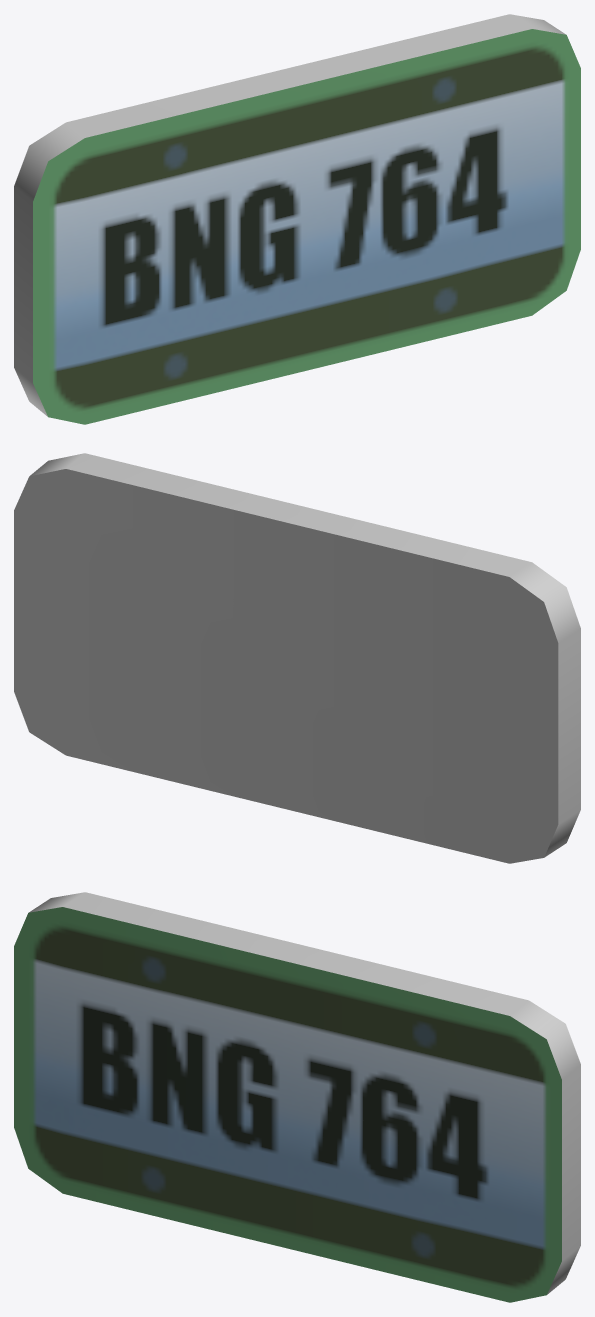
Rendered from Car_Number_24.fbx.
The picture shows the model from 3 angles, top to bottom: view 1: azimuth 30°, elevation 25°; view 2: azimuth 150°, elevation 25°; view 3: azimuth 330°, elevation 25°; orthographic projection.
Parts seen in each view (by area): view 1: Car_Number_24; view 2: Car_Number_24; view 3: Car_Number_24.
Boxes of the visible parts, <box> form: Car_Number_24: <box>14,14,580,424</box>; Car_Number_24: <box>14,453,580,863</box>; Car_Number_24: <box>14,892,580,1302</box>.
Size of the model in its own units: 49.09 by 3.48 by 24.55.
